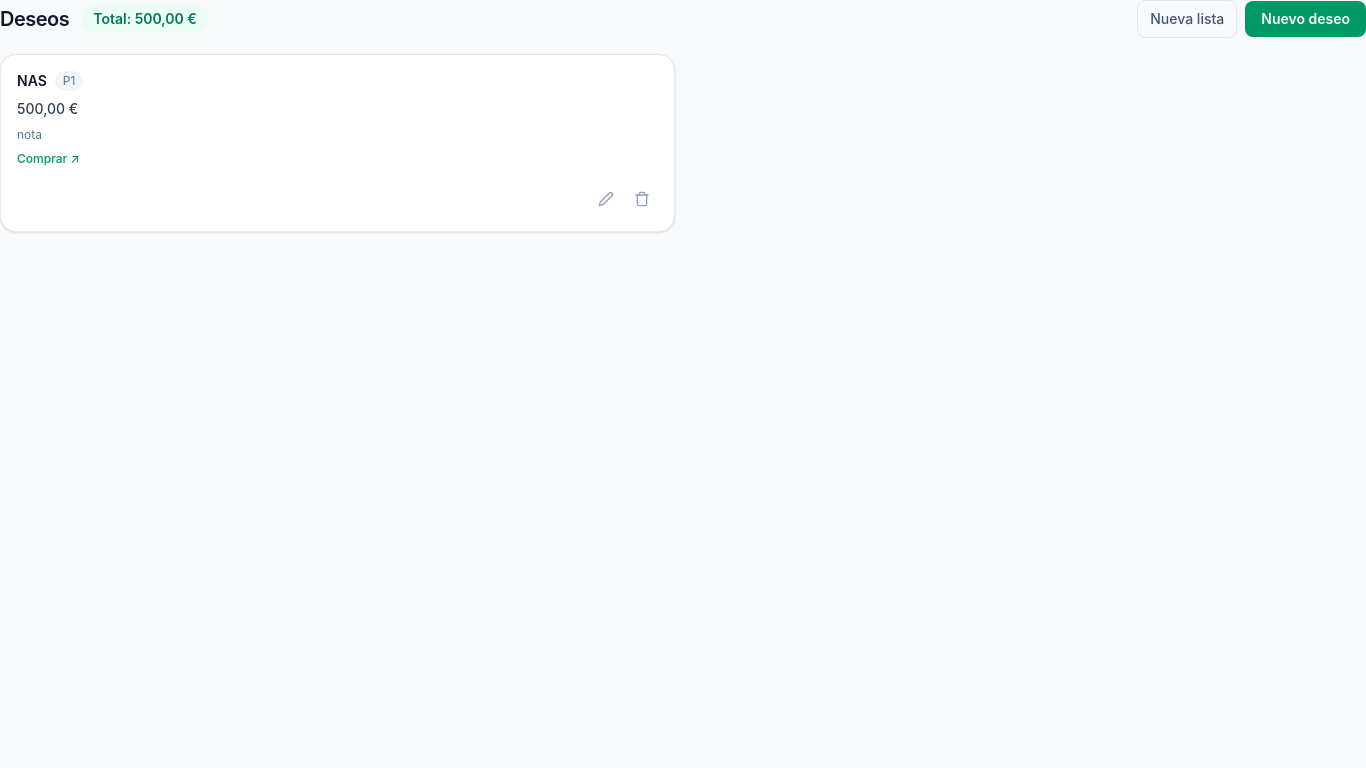
Test: WishlistPage › opens the new-wish modal
The width and height of the screenshot is (1366, 768).
Check: the text "NAS" is shown, box x1=17 y1=71 x2=47 y2=91
Click the button "Nuevo deseo": (1306, 19) x1=1245 y1=1 x2=1365 y2=37
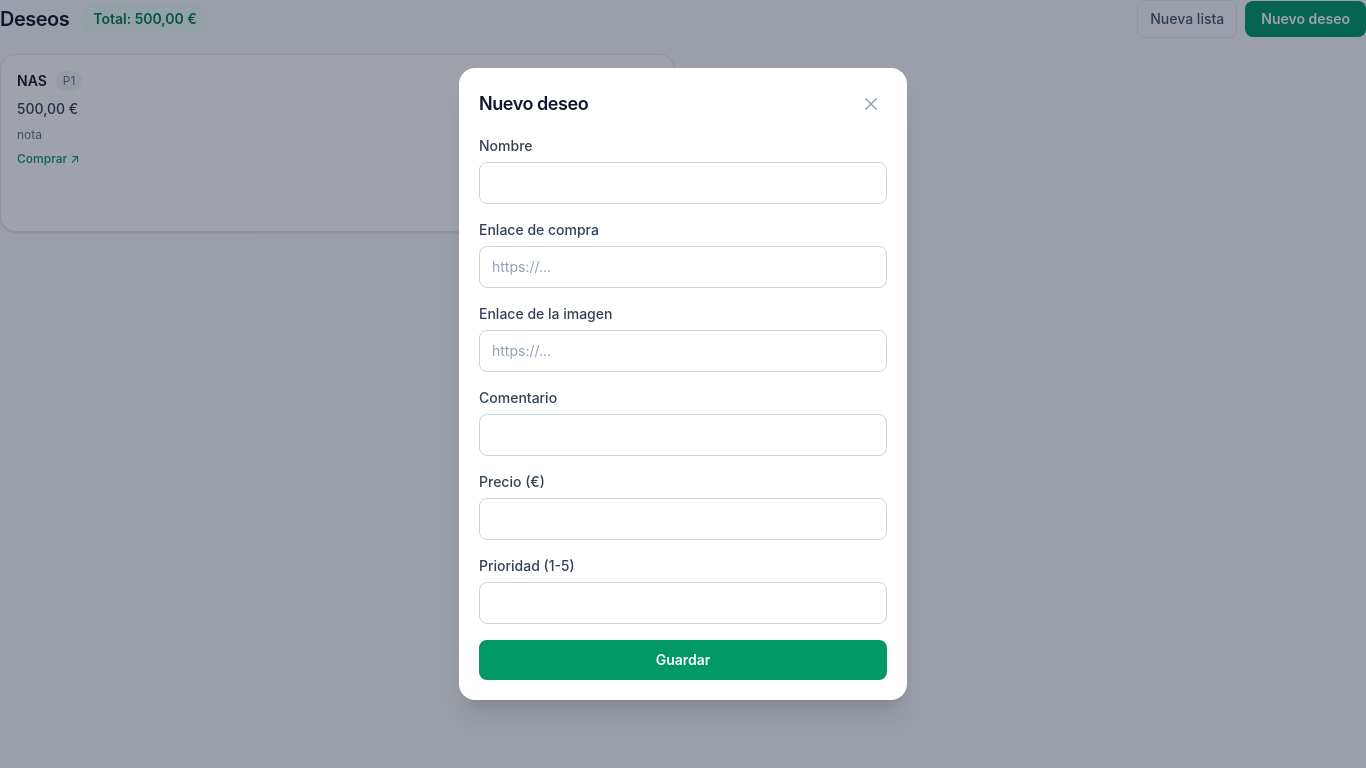
Check: the button "Guardar" is shown, box x1=479 y1=640 x2=887 y2=680
